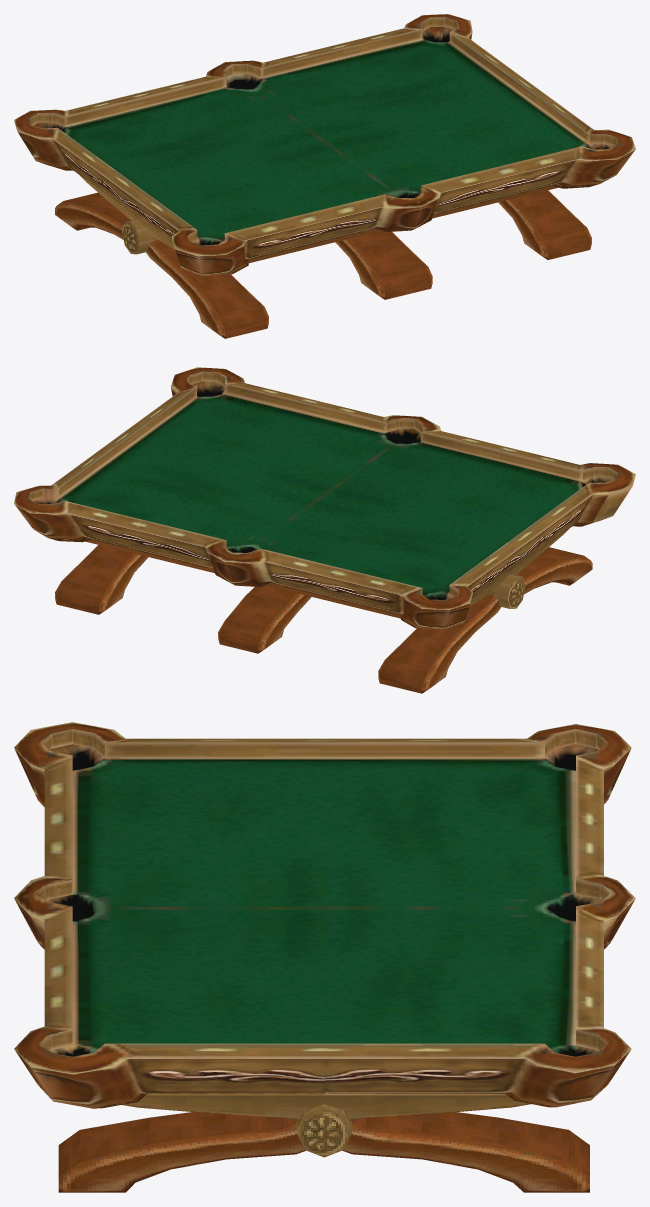
File: bil12.glb
3 views of the same model, one above another, from view 1: azimuth 30°, elevation 25°; view 2: azimuth 150°, elevation 25°; view 3: azimuth 270°, elevation 25° (orthographic). The views are drawn at different scales.
Visible parts, largest first — view 1: bil12; view 2: bil12; view 3: bil12.
Boxes of the visible parts, x1,y1,x2,y2 form: bil12: (14,14,635,338); bil12: (14,367,635,693); bil12: (14,722,635,1192).
Bounding box in the file's own units: 595 × 126 × 445.
Materials: 4 (4 with a texture image).
